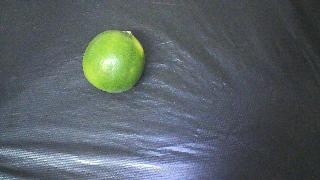LOCAL: (82, 30, 145, 93)
